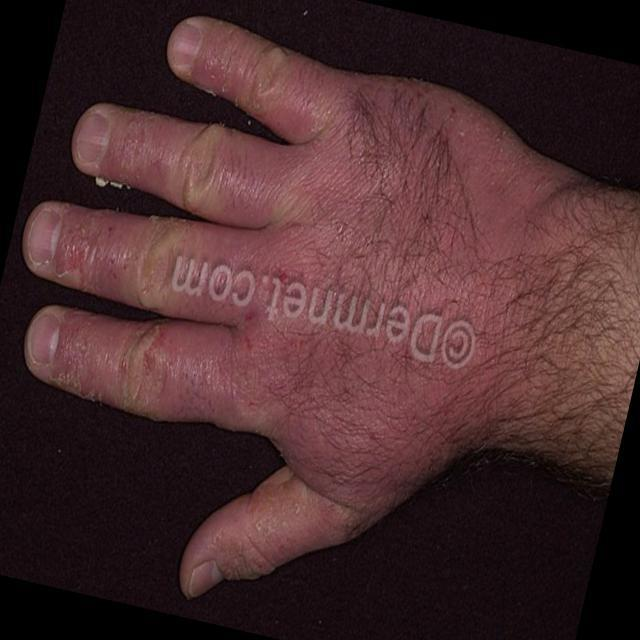Eczema: (41, 340, 111, 412), (46, 218, 113, 288), (106, 114, 164, 188), (191, 48, 240, 96)
